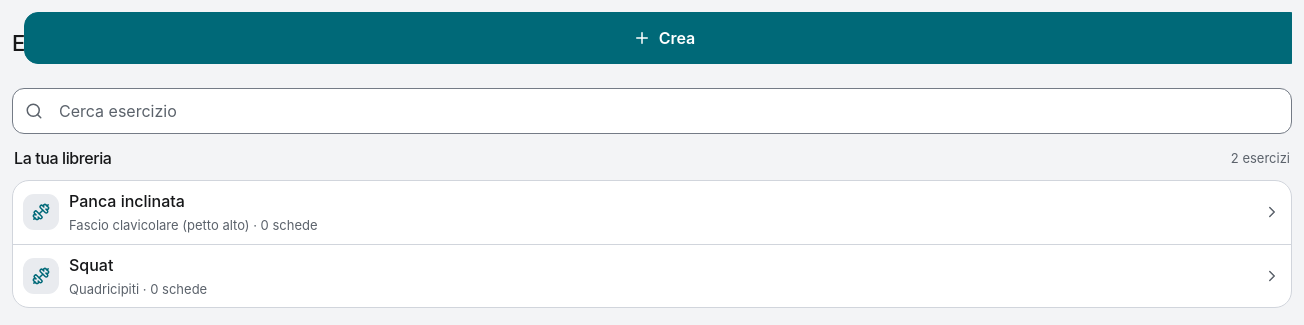
Test: TrainingExercises proposal 5 › filters the real library by exercise name and muscle metadata, then restores the list
In the search field labelled "Cerca esercizio": [652, 111] box top-left (12, 88), bottom-right (1292, 134), type "squat"
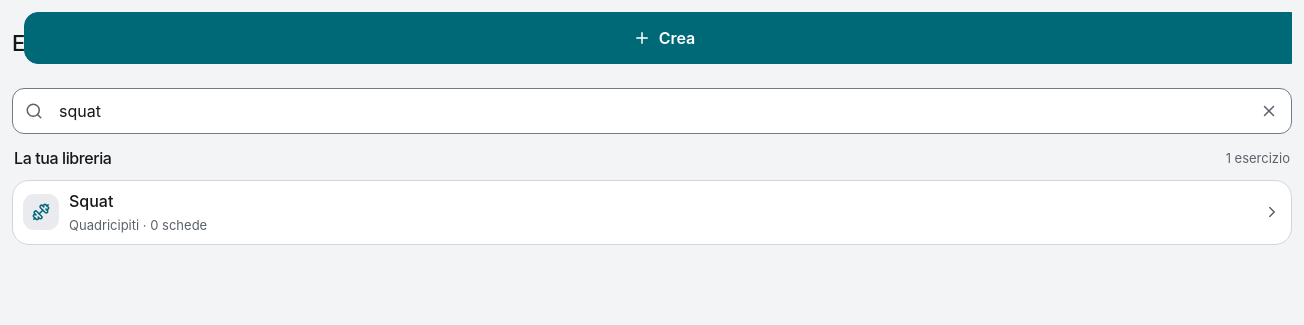
Expected: the button with aria-label "Apri dettaglio di Squat" is shown, top-left (13, 181), bottom-right (1291, 244)
Replace the text in the search field named "Cerca esercizio" with "clavicolare": [652, 111] box top-left (12, 88), bottom-right (1292, 134)
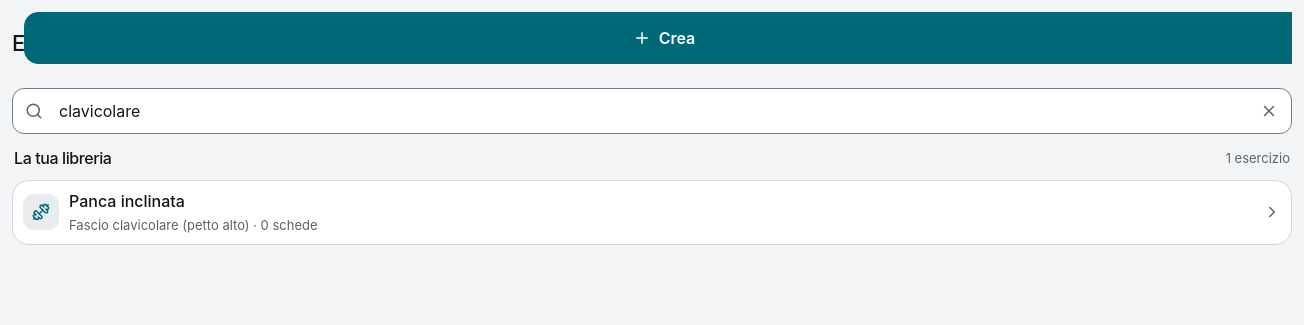
Result: the button with aria-label "Apri dettaglio di Panca inclinata" is shown at top-left (13, 181), bottom-right (1291, 244)
Click the button named "Cancella ricerca": [1269, 111] box top-left (1247, 89), bottom-right (1291, 133)
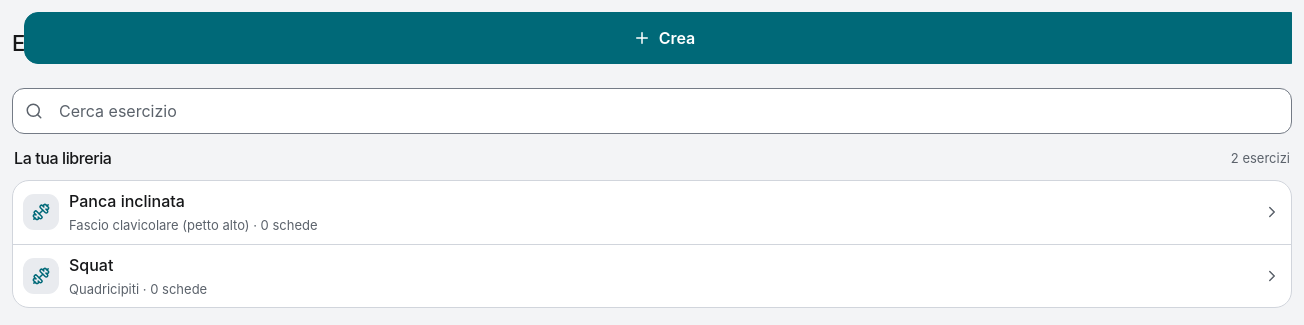
Result: the button with aria-label "Apri dettaglio di Panca inclinata" is shown at top-left (13, 181), bottom-right (1291, 244)
Result: the button with aria-label "Apri dettaglio di Squat" is shown at top-left (13, 244), bottom-right (1291, 307)
